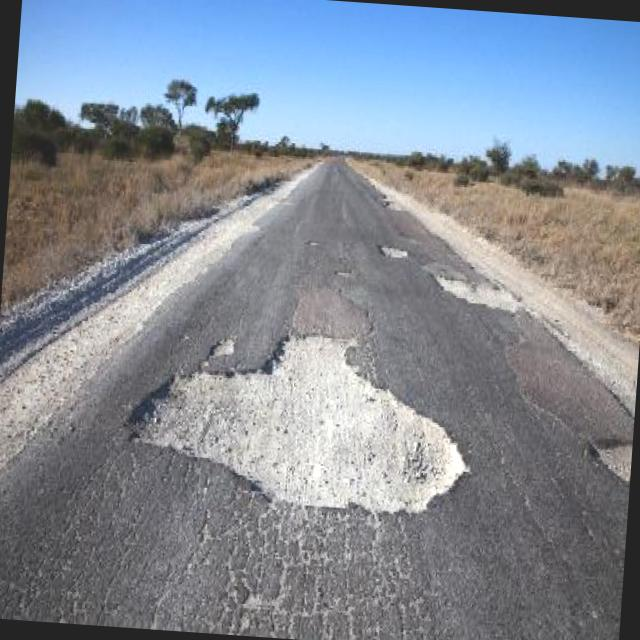Lubang: (141, 338, 465, 512), (436, 278, 520, 311), (590, 439, 632, 481), (213, 338, 234, 355), (380, 247, 407, 258)
